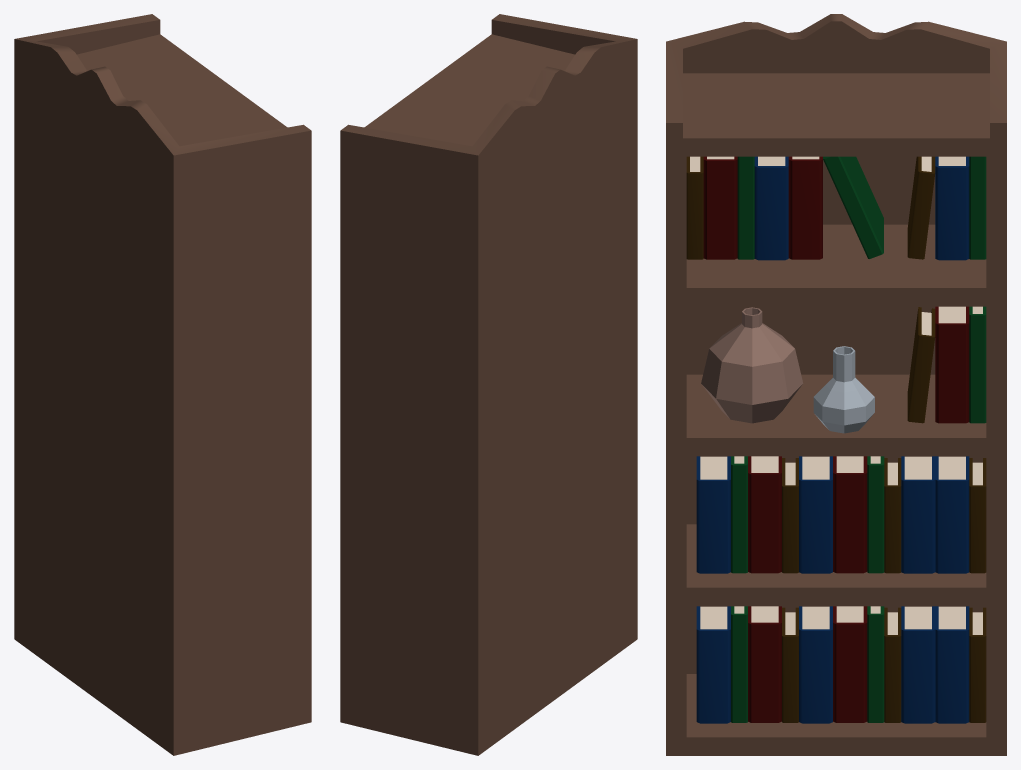
The picture shows the model from 3 angles, left to right: view 1: azimuth 30°, elevation 25°; view 2: azimuth 150°, elevation 25°; view 3: azimuth 270°, elevation 25°; orthographic projection. The views are drawn at different scales.
Parts seen in each view (by area): view 1: Bookshelf_0.5x1x2_proxy.001_0; view 2: Bookshelf_0.5x1x2_proxy.001_0; view 3: Bookshelf_0.5x1x2_proxy.001_0, Bookshelf_0.5x1x2_proxy.001_1, Bookshelf_0.5x1x2_proxy.001_4, Bookshelf_0.5x1x2_proxy.001_3, Bookshelf_0.5x1x2_proxy.001_5, Bookshelf_0.5x1x2_proxy.001_2, Bookshelf_0.5x1x2_proxy.001_6, Bookshelf_0.5x1x2_proxy.001_7.
Part boxes in pixels (x1,y1,x2,y2): Bookshelf_0.5x1x2_proxy.001_0: (14,14,311,755); Bookshelf_0.5x1x2_proxy.001_0: (340,14,637,755); Bookshelf_0.5x1x2_proxy.001_0: (666,14,1006,755); Bookshelf_0.5x1x2_proxy.001_1: (696,156,969,723); Bookshelf_0.5x1x2_proxy.001_4: (703,156,969,722); Bookshelf_0.5x1x2_proxy.001_3: (731,156,986,722); Bookshelf_0.5x1x2_proxy.001_5: (686,156,986,722); Bookshelf_0.5x1x2_proxy.001_2: (690,156,982,634); Bookshelf_0.5x1x2_proxy.001_6: (701,307,803,423); Bookshelf_0.5x1x2_proxy.001_7: (813,346,874,433).
Bounding box in the file's own units: 0.5 × 2.17 × 1.
